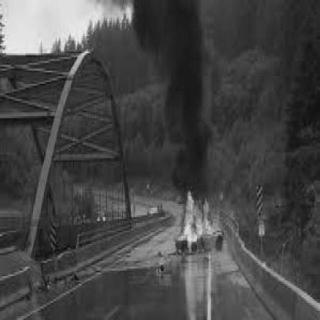Fire: (172, 190, 224, 256)
